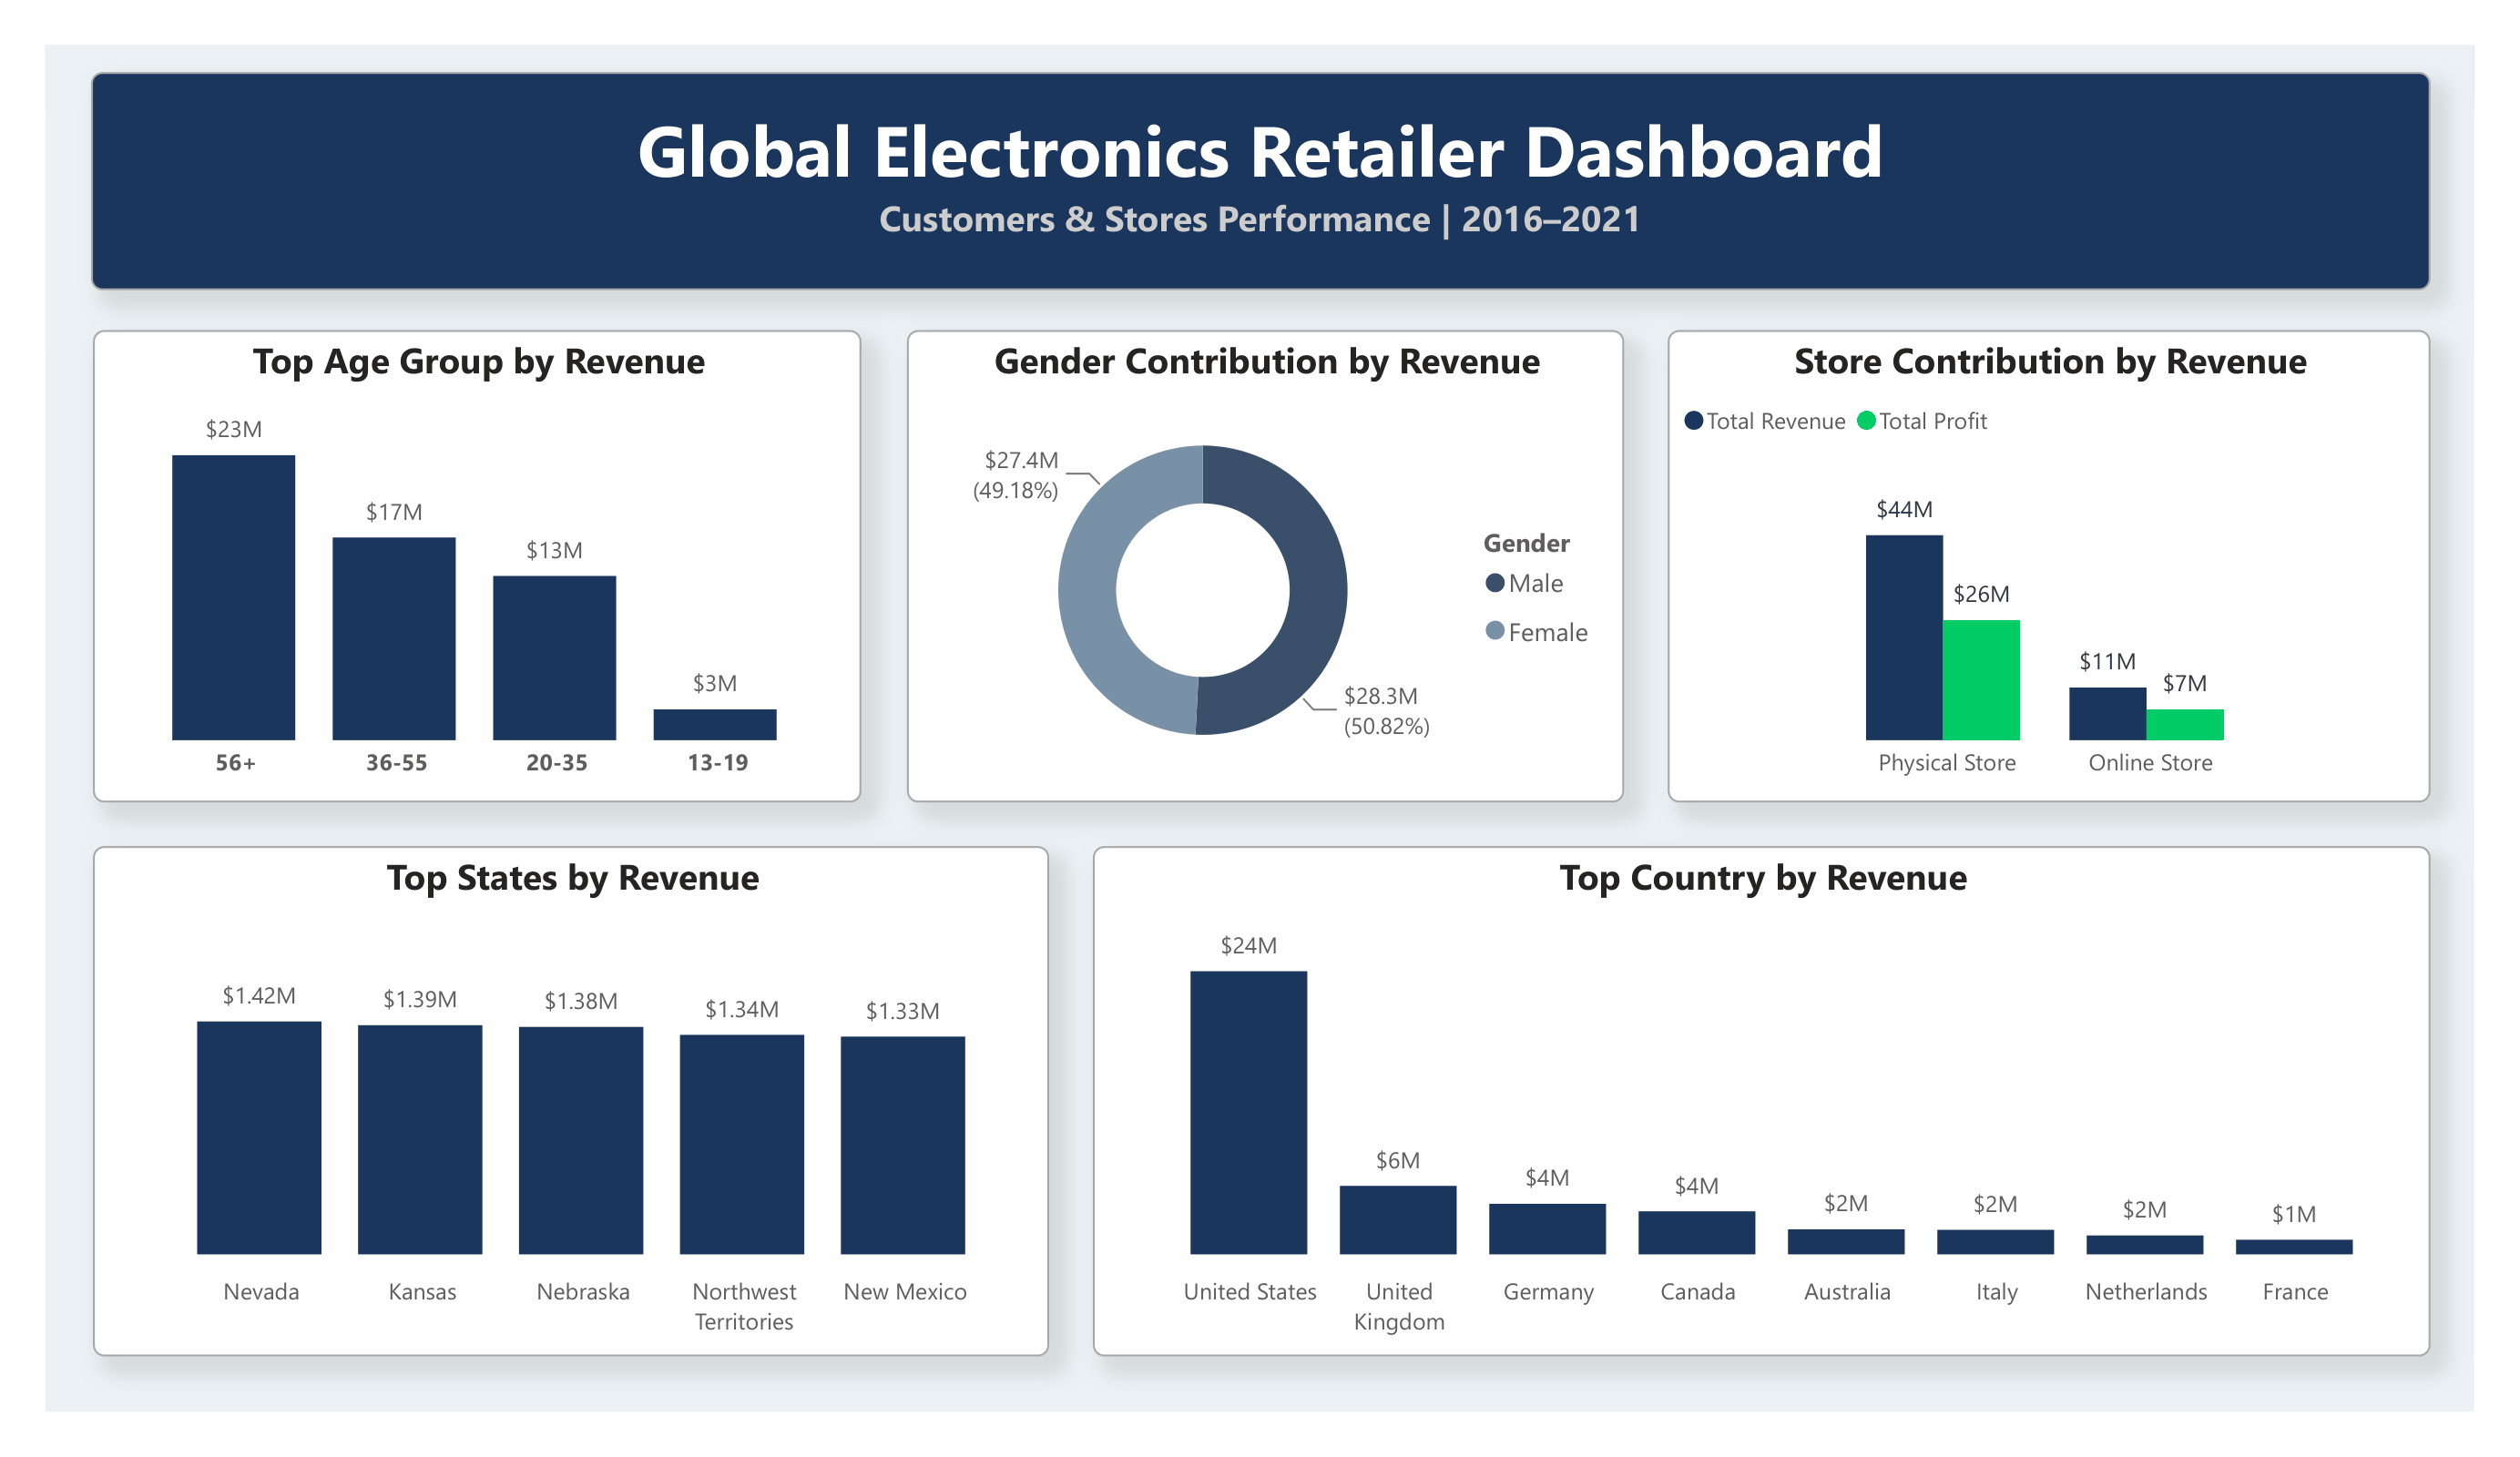

What the dashboard file says about the page in this screenshot:
{"tool":"powerbi","page":{"name":"Customers & Stores","canvas":[1280,720],"ordinal":2},"visuals":[{"type":"clusteredColumnChart","title":"Top Age Group by Revenue","fields":{"Category":["Sales Analytics.Age Group"],"Y":["Sales Analytics.Total Revenue"]},"box":[24.9,150,405,248.8],"z":0},{"type":"donutChart","title":"Gender Contribution by Revenue","fields":{"Y":["Sales Analytics.Total Revenue"],"Category":["Sales Analytics.gender"]},"box":[453.6,150,378.8,248.8],"z":1000},{"type":"clusteredColumnChart","title":"Top Country by Revenue","fields":{"Category":["Sales Analytics.country"],"Y":["Sales Analytics.Total Revenue"]},"box":[552.4,422,705,268.8],"z":2000},{"type":"clusteredColumnChart","title":"Top States by Revenue","fields":{"Category":["Sales Analytics.state"],"Y":["Sales Analytics.Total Revenue"]},"box":[24.9,422,503.8,268.8],"z":3000},{"type":"clusteredColumnChart","title":"Store Contribution by Revenue","fields":{"Category":["Sales Analytics.Store Type"],"Y":["Sales Analytics.Total Revenue","Sales Analytics.Total Profit"]},"box":[854.9,150,402.5,248.8],"z":4000},{"type":"textbox","box":[24.3,14.3,1232.9,114.3],"z":5000}]}

Visuals, with their boxes on the page's 1280x720 design canvas (x1, y1, x2, y2). These are canvas units, not pixel positions in the 2520x1457 screenshot, which may show the page scaled, cropped or inside an application window:
"Top Age Group by Revenue" clusteredColumnChart: <bbox>25, 150, 430, 399</bbox>
"Gender Contribution by Revenue" donutChart: <bbox>454, 150, 832, 399</bbox>
"Top Country by Revenue" clusteredColumnChart: <bbox>552, 422, 1257, 691</bbox>
"Top States by Revenue" clusteredColumnChart: <bbox>25, 422, 529, 691</bbox>
"Store Contribution by Revenue" clusteredColumnChart: <bbox>855, 150, 1257, 399</bbox>
textbox: <bbox>24, 14, 1257, 129</bbox>
